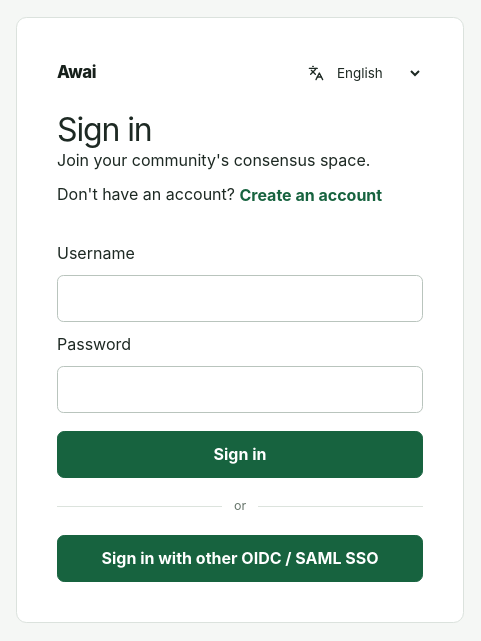
LoginPage › offers domain-based single sign-on
Click the button "Sign in with other OIDC / SAML SSO".
click(240, 558)  # box [57,535,423,582]
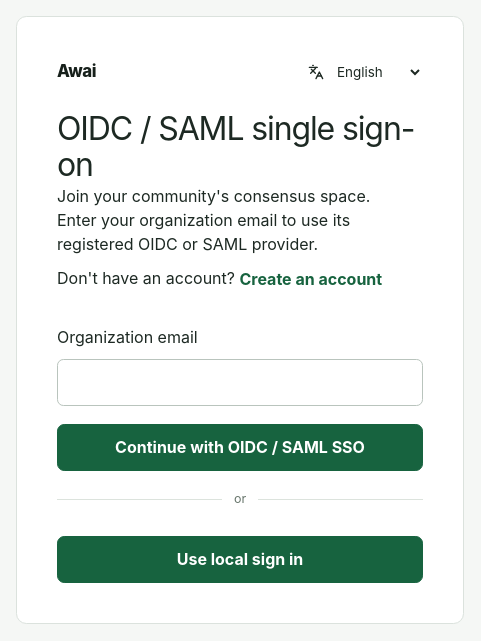
Expected: the heading "OIDC / SAML single sign-on" is shown, [57,111,423,184]
Expected: the button "Continue with OIDC / SAML SSO" is shown, [57,424,423,471]
